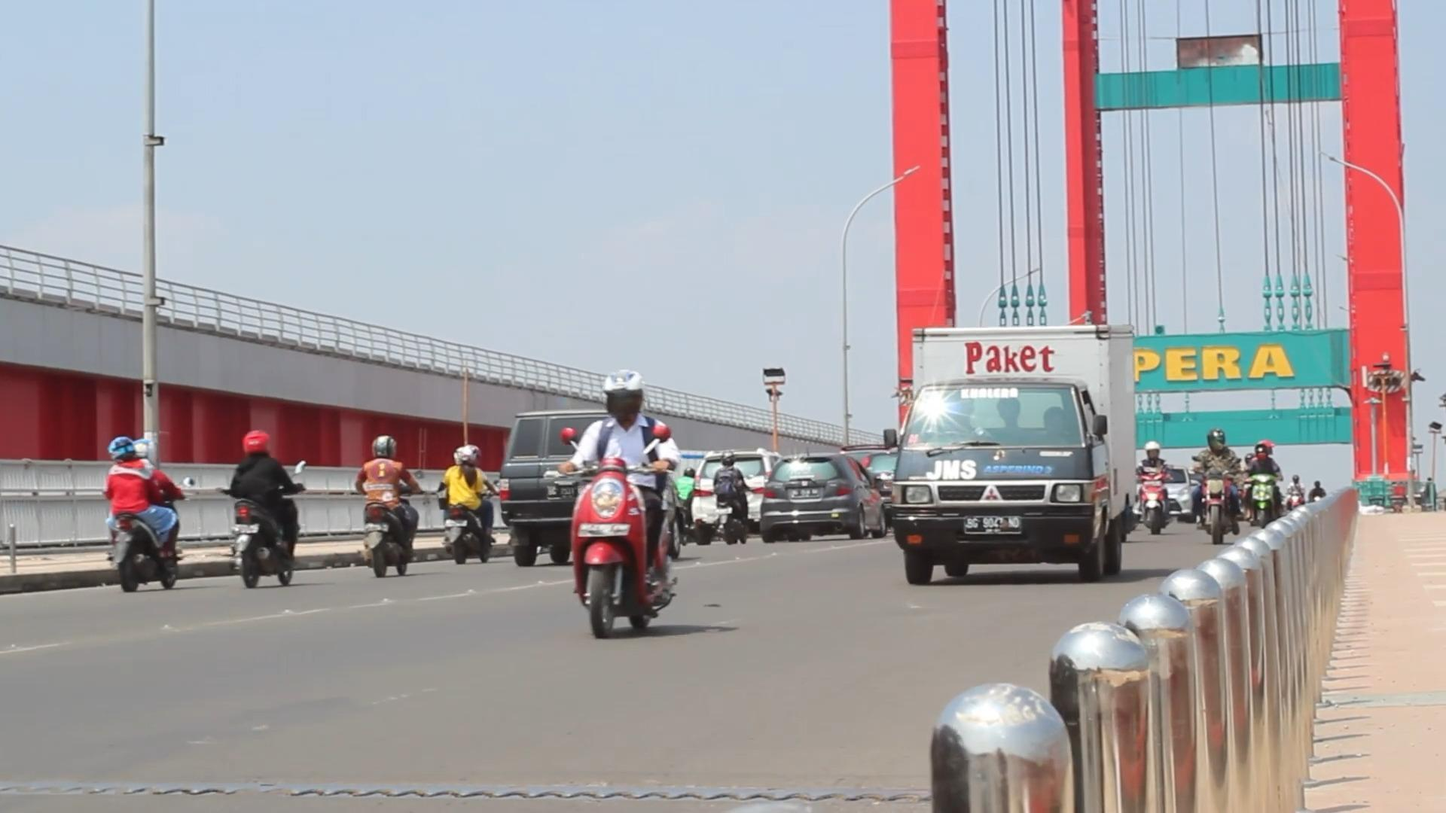Helmet: (593, 362, 656, 425), (238, 423, 277, 460), (104, 426, 140, 466), (368, 428, 401, 470), (127, 434, 157, 464)
bike: (559, 419, 681, 637), (226, 452, 310, 588), (102, 475, 199, 591), (357, 464, 427, 582)
rider: (562, 366, 681, 585), (101, 428, 177, 555), (229, 419, 300, 525), (357, 428, 419, 547)
